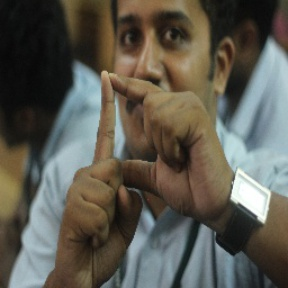D: (71, 64, 194, 193)
